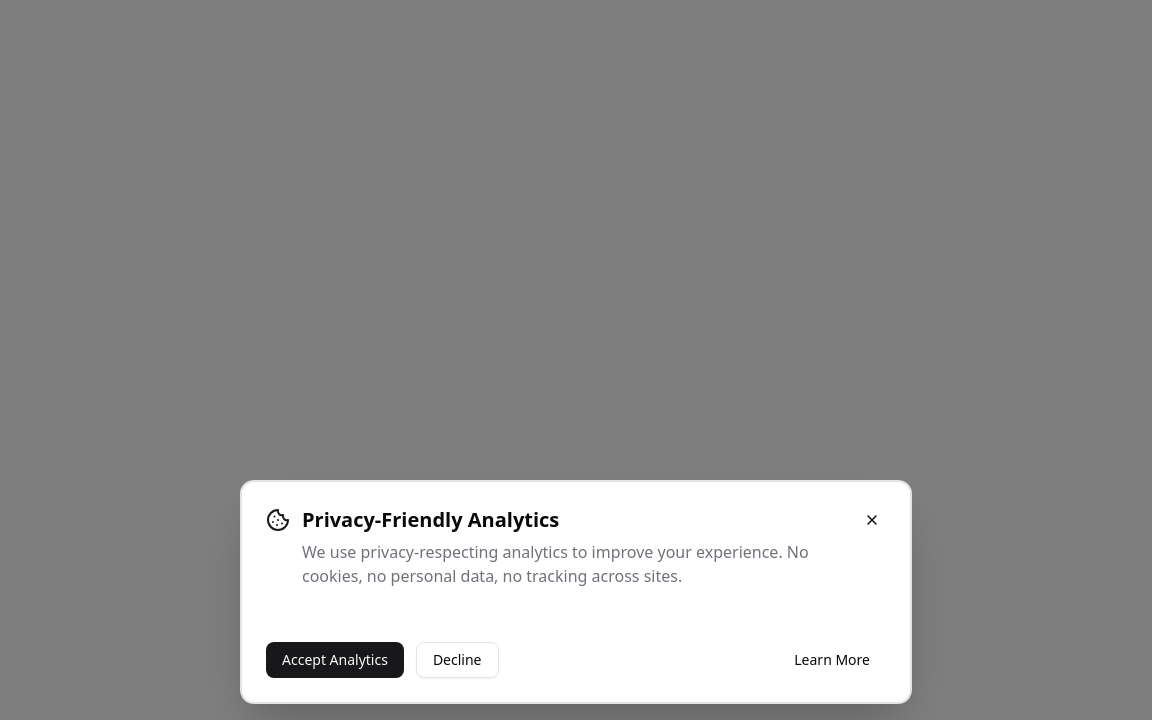
Test case: ConsentBanner › Accessibility - ARIA Attributes › should update aria-expanded when toggling details
Expected: the dialog is shown, [240,480,912,704]
Note: Click to expand
Step 1. Click the button with aria-label "show privacy details" → (832,660), box [778,642,886,678]
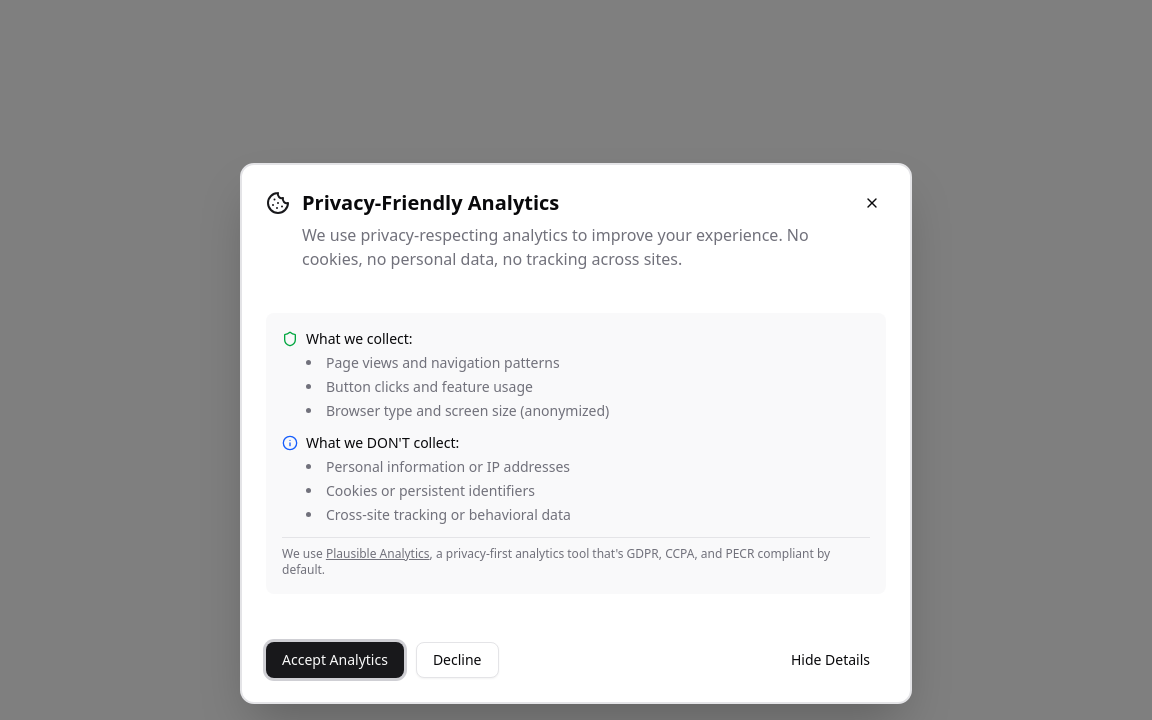
Expected: the button named "show privacy details" is expanded
Expected: the text "What we collect:" is shown, [306,329,413,348]
Step 2. Click the button with aria-label "hide privacy details" → (830,660), box [775,642,886,678]
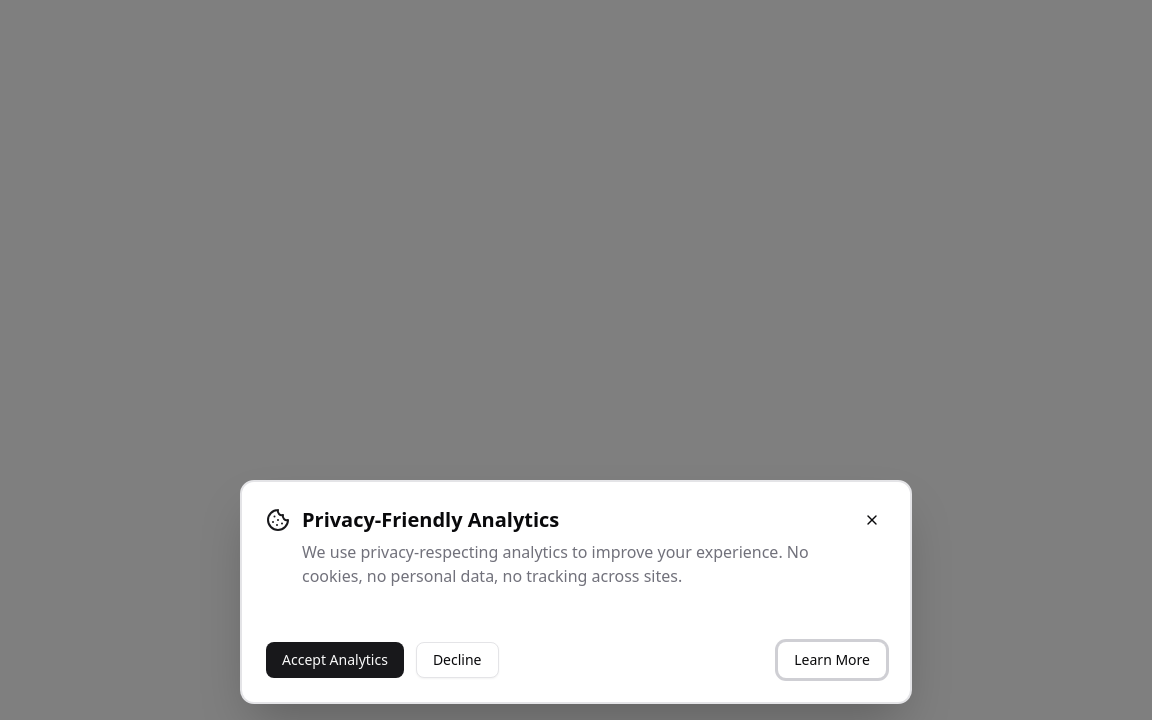
Expected: the button with aria-label "show privacy details" is collapsed, [778,642,886,678]
